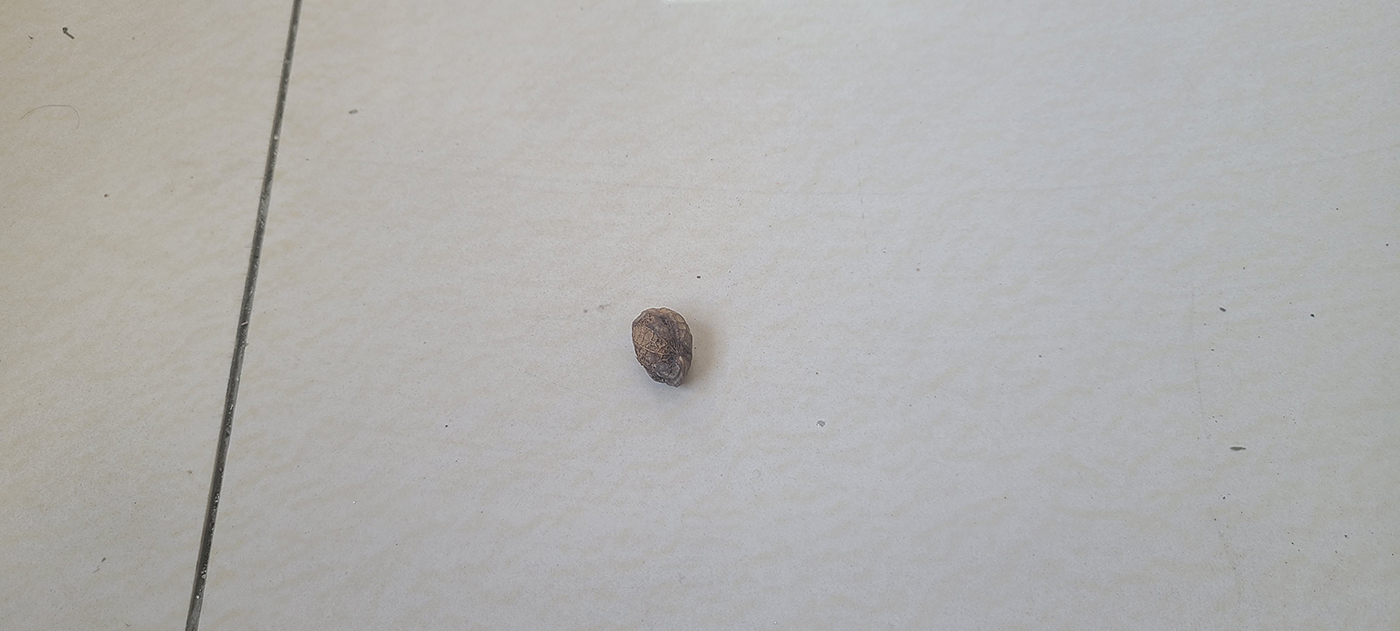l: (632, 307, 694, 387)
